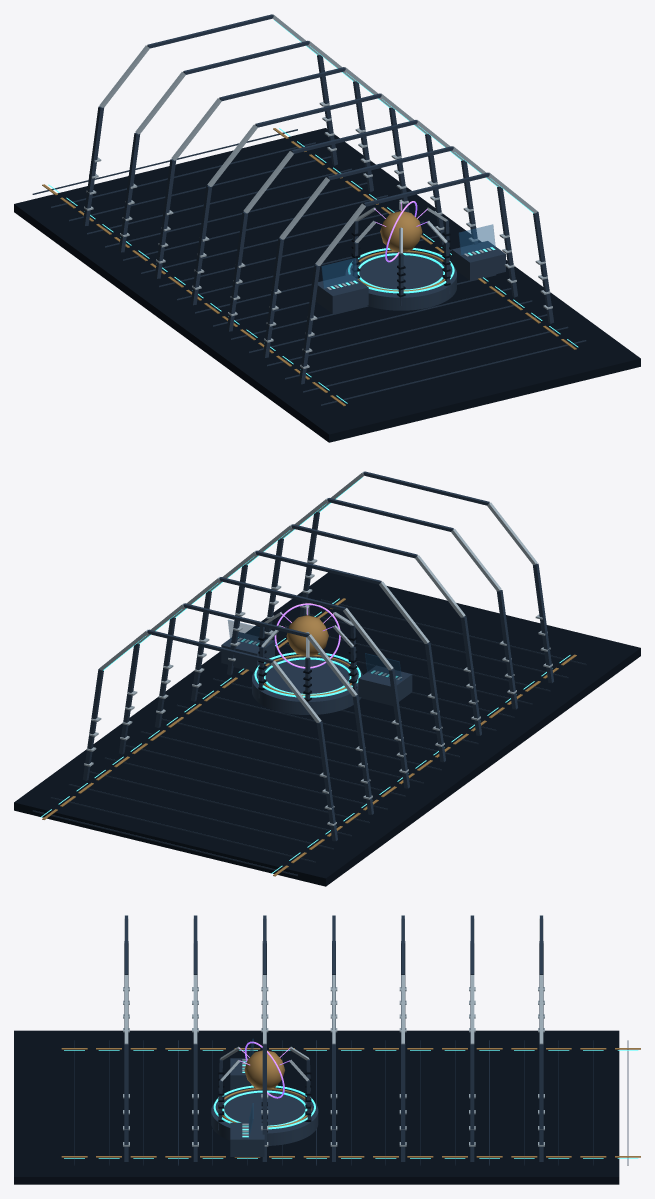
The model's file is forge-desktop.glb.
3 views of the same model, one above another, from view 1: azimuth 30°, elevation 25°; view 2: azimuth 150°, elevation 25°; view 3: azimuth 270°, elevation 25° (orthographic). The views are drawn at different scales.
Parts seen in each view (by area): view 1: object 1, architectural-heart, fabrication-heart, object 87, object 177, object 132, object 117, object 147, object 162, object 102, object 94, object 109 (+7 smaller); view 2: object 1, architectural-heart, fabrication-heart, object 177, object 132, object 87, object 162, object 102, object 117, object 147, object 184, object 169 (+10 smaller); view 3: object 1, architectural-heart, fabrication-heart, object 94, object 184, object 109, object 154, object 169, object 124, object 139.
Boxes of the visible parts, x1,y1,x2,y2 form: object 1: (14, 128, 640, 442); architectural-heart: (315, 200, 505, 313); fabrication-heart: (380, 211, 422, 251); object 87: (299, 264, 320, 384); object 177: (82, 106, 103, 225); object 132: (191, 185, 212, 305); object 117: (227, 212, 248, 331); object 147: (155, 159, 176, 278); object 162: (119, 132, 140, 252); object 102: (263, 238, 284, 357); object 94: (533, 211, 553, 323); object 109: (497, 186, 517, 297); object 1: (14, 572, 640, 886); architectural-heart: (221, 603, 412, 714); fabrication-heart: (286, 615, 328, 656); object 177: (316, 721, 337, 841); object 132: (424, 642, 445, 762); object 87: (533, 563, 553, 683); object 162: (352, 695, 373, 814); object 102: (496, 590, 517, 709); object 117: (461, 616, 481, 735); object 147: (388, 669, 409, 788); object 184: (83, 668, 103, 780); object 169: (119, 644, 139, 754); object 1: (14, 1030, 619, 1184); architectural-heart: (211, 1039, 318, 1156); fabrication-heart: (244, 1050, 284, 1089); object 94: (124, 1044, 128, 1161); object 184: (539, 1044, 543, 1161); object 109: (193, 1044, 197, 1161); object 154: (401, 1044, 405, 1161); object 169: (470, 1044, 474, 1161); object 124: (262, 1044, 266, 1161); object 139: (332, 1044, 335, 1161).
Bounding box in the file's own units: 20 × 10.64 × 36.25.
